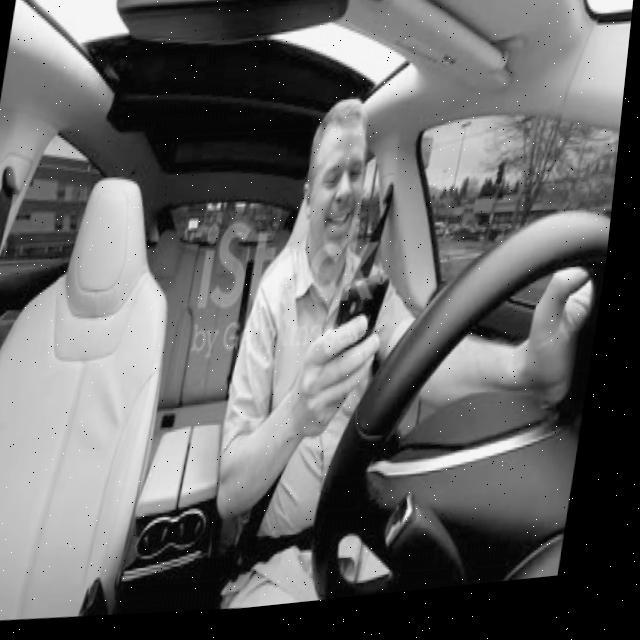PhoneCall: (334, 284, 396, 402)
